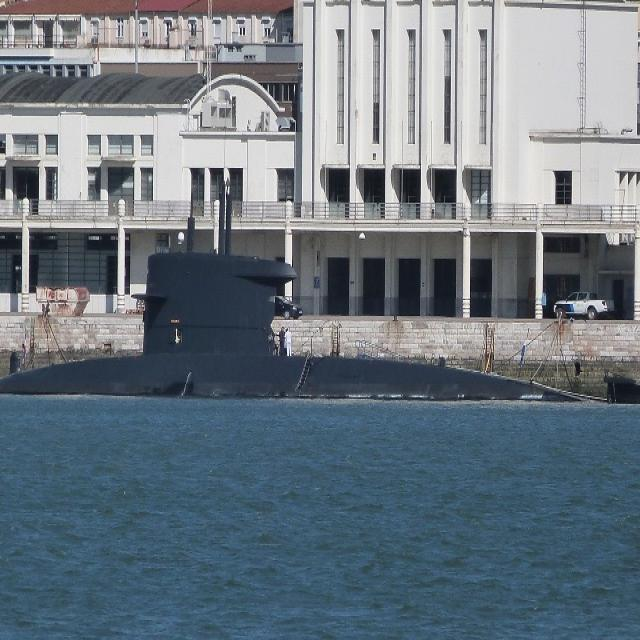submarine: (1, 253, 640, 402)
